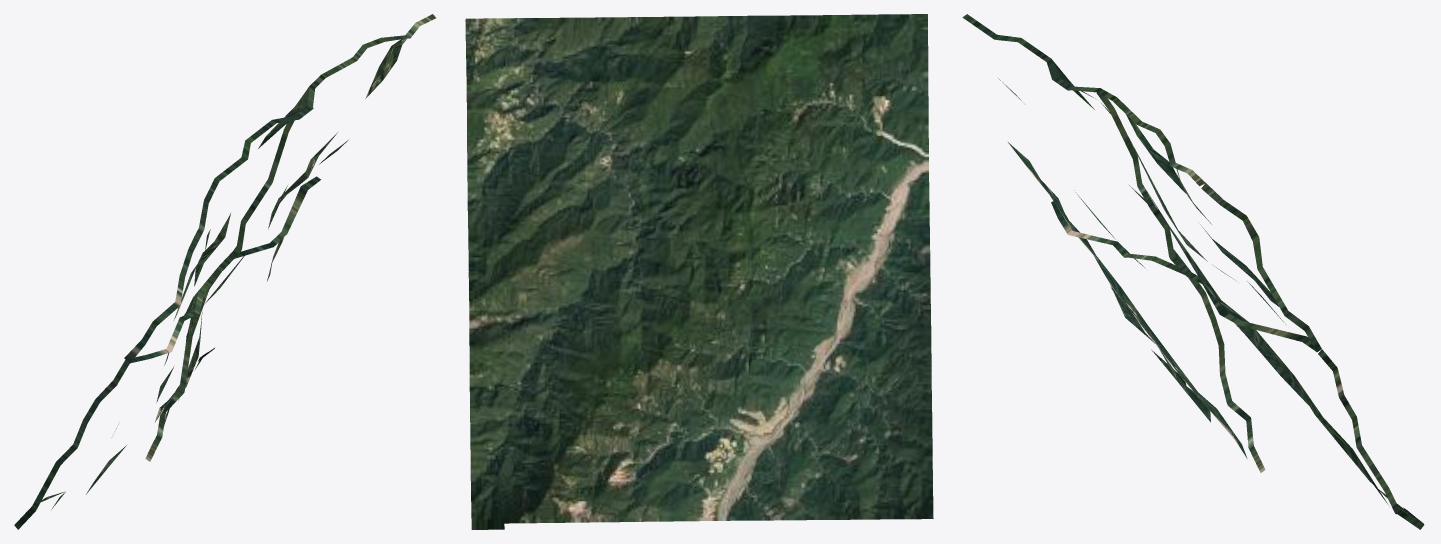
3 renders of one model, left to right at view 1: azimuth 30°, elevation 25°; view 2: azimuth 150°, elevation 25°; view 3: azimuth 270°, elevation 25°, orthographic. The views are drawn at different scales.
Bounding box in the file's own units: 20262 × 18297 × 17985.
Materials: 1 (1 with a texture image).
